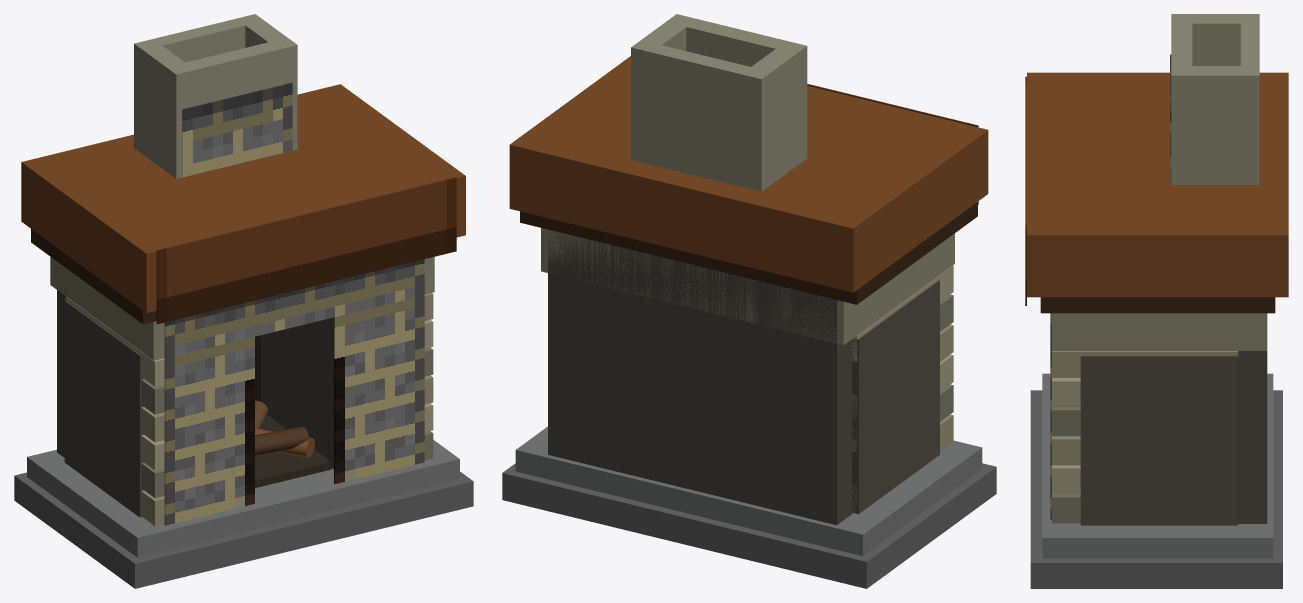
File: CMU3DFireplaceCloud.glb
3 views of the same model, side by side, from view 1: azimuth 30°, elevation 25°; view 2: azimuth 150°, elevation 25°; view 3: azimuth 270°, elevation 25° (orthographic). The views are drawn at different scales.
Parts seen in each view (by area): view 1: solid overhanging timber mantel, original brown mantel front, inner firebox cheek (×2), left source stone and mortar, right source stone and mortar, stone hearth upper step, stone hearth lower step, source lintel stone and mortar, original chimney masonry, chimney left, chimney front, solid masonry lintel (+12 smaller); view 2: firebox stone rear wall, solid overhanging timber mantel, stone hearth lower step, inner firebox cheek, stone hearth upper step, chimney rear, solid masonry lintel, chimney left, mantel dark lower molding, chimney right, chimney front, masonry jamb block 0-5-0; view 3: solid overhanging timber mantel, inner firebox cheek, stone hearth lower step, chimney right, stone hearth upper step, solid masonry lintel, firebox stone rear wall, mantel dark lower molding, chimney left, masonry jamb block 1-5-1, chimney front, masonry jamb block 1-0-1 (+6 smaller).
Part boxes in pixels (<box>): solid overhanging timber mantel: <box>21,84,465,313</box>; original brown mantel front: <box>156,177,456,324</box>; inner firebox cheek (×2): <box>64,300,333,517</box>; left source stone and mortar: <box>164,336,254,525</box>; right source stone and mortar: <box>334,295,424,483</box>; stone hearth upper step: <box>27,440,459,557</box>; stone hearth lower step: <box>14,471,473,588</box>; source lintel stone and mortar: <box>164,259,424,358</box>; original chimney masonry: <box>182,82,292,177</box>; chimney left: <box>134,39,195,178</box>; chimney front: <box>185,42,278,174</box>; solid masonry lintel: <box>50,257,434,360</box>; firebox stone rear wall: <box>548,231,852,525</box>; solid overhanging timber mantel: <box>509,56,988,292</box>; stone hearth lower step: <box>502,463,996,588</box>; inner firebox cheek: <box>852,280,939,513</box>; stone hearth upper step: <box>515,426,982,555</box>; chimney rear: <box>651,45,750,186</box>; solid masonry lintel: <box>541,228,954,345</box>; chimney left: <box>741,41,807,191</box>; mantel dark lower molding: <box>520,202,977,304</box>; chimney right: <box>631,14,696,164</box>; chimney front: <box>686,19,786,66</box>; masonry jamb block 0-5-0: <box>852,265,953,361</box>; solid overhanging timber mantel: <box>1027,72,1288,297</box>; inner firebox cheek: <box>1080,356,1238,525</box>; stone hearth lower step: <box>1030,390,1282,588</box>; chimney right: <box>1171,66,1259,184</box>; stone hearth upper step: <box>1042,373,1273,558</box>; solid masonry lintel: <box>1052,313,1267,350</box>; firebox stone rear wall: <box>1238,351,1267,523</box>; mantel dark lower molding: <box>1040,297,1275,313</box>; chimney left: <box>1171,14,1259,65</box>; masonry jamb block 1-5-1: <box>1052,351,1238,377</box>; chimney front: <box>1171,23,1192,65</box>; masonry jamb block 1-0-1: <box>1052,494,1080,523</box>.
Size of the model in its own units: 1.06 by 1.31 by 0.684.
22 materials, 5 textured.
